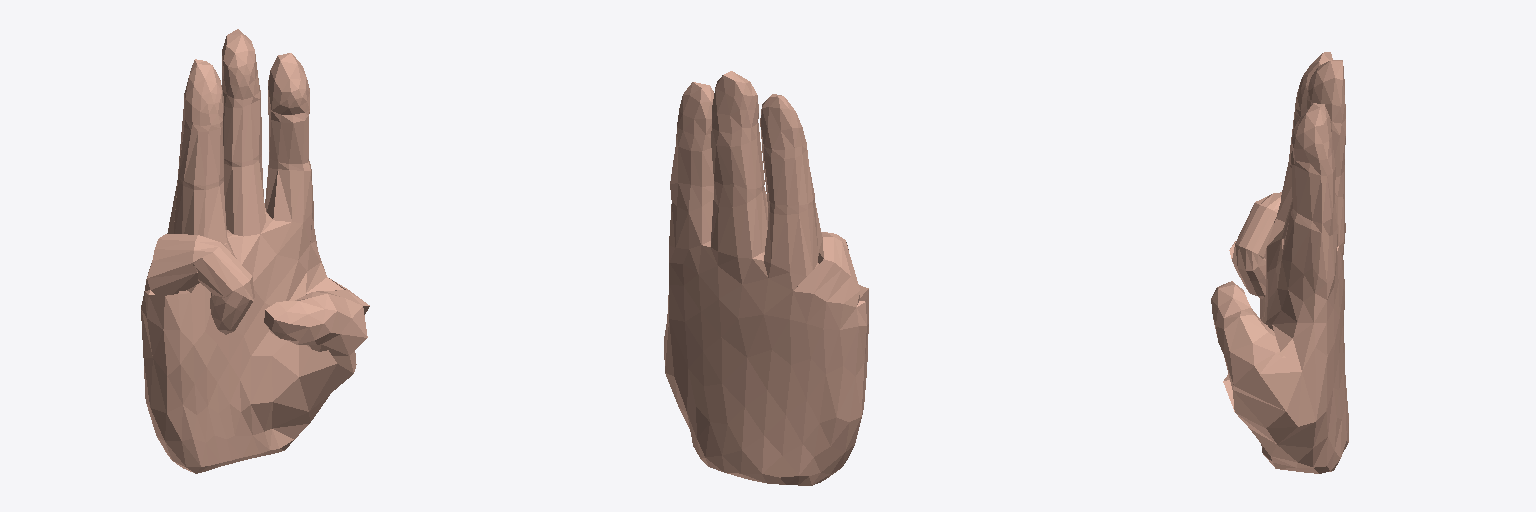
Rendered from MAO_TERCA.obj.
The picture shows the model from 3 angles: view 1: azimuth 30°, elevation 25°; view 2: azimuth 150°, elevation 25°; view 3: azimuth 270°, elevation 25°; orthographic projection.
Visible parts, largest first — view 1: mao_dir:mao_dir; view 2: mao_dir:mao_dir; view 3: mao_dir:mao_dir.
Part boxes in pixels (x1,y1,x2,y2): mao_dir:mao_dir: (141,29,369,473); mao_dir:mao_dir: (664,71,868,485); mao_dir:mao_dir: (1211,52,1348,473).
Bounding box in the file's own units: 132 × 243 × 75.53.